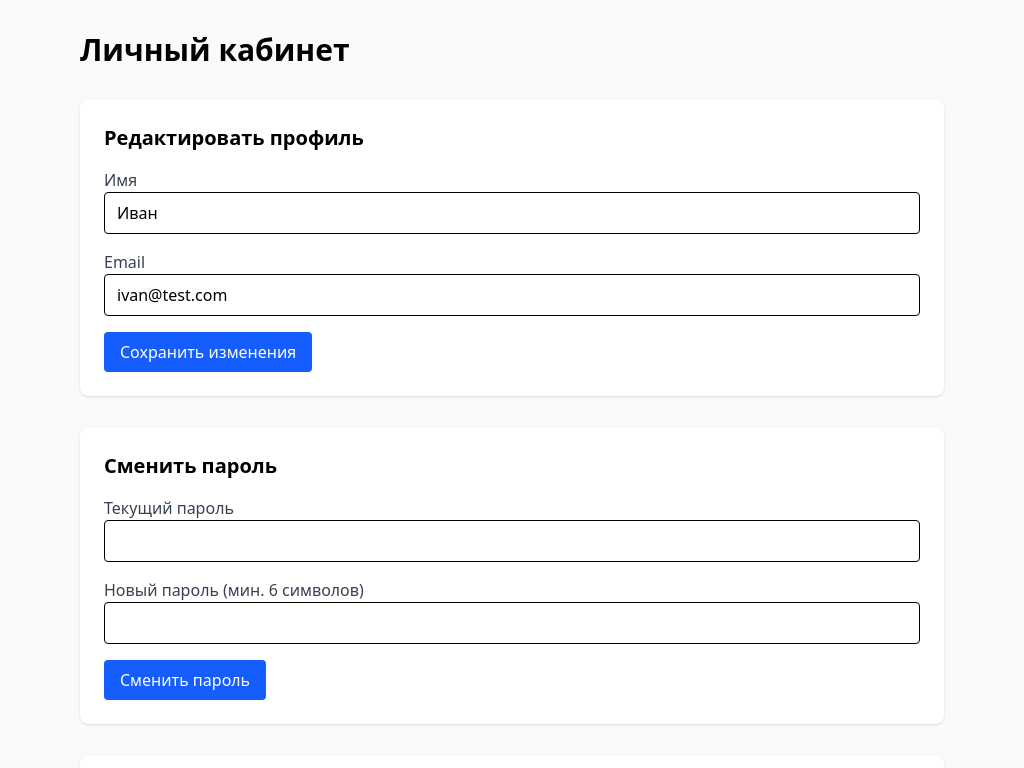
Test: ProfilePage › shows error on profile update failure
Click the button "Сохранить изменения" at x=208, y=352, box left=104, top=332, right=312, bottom=372
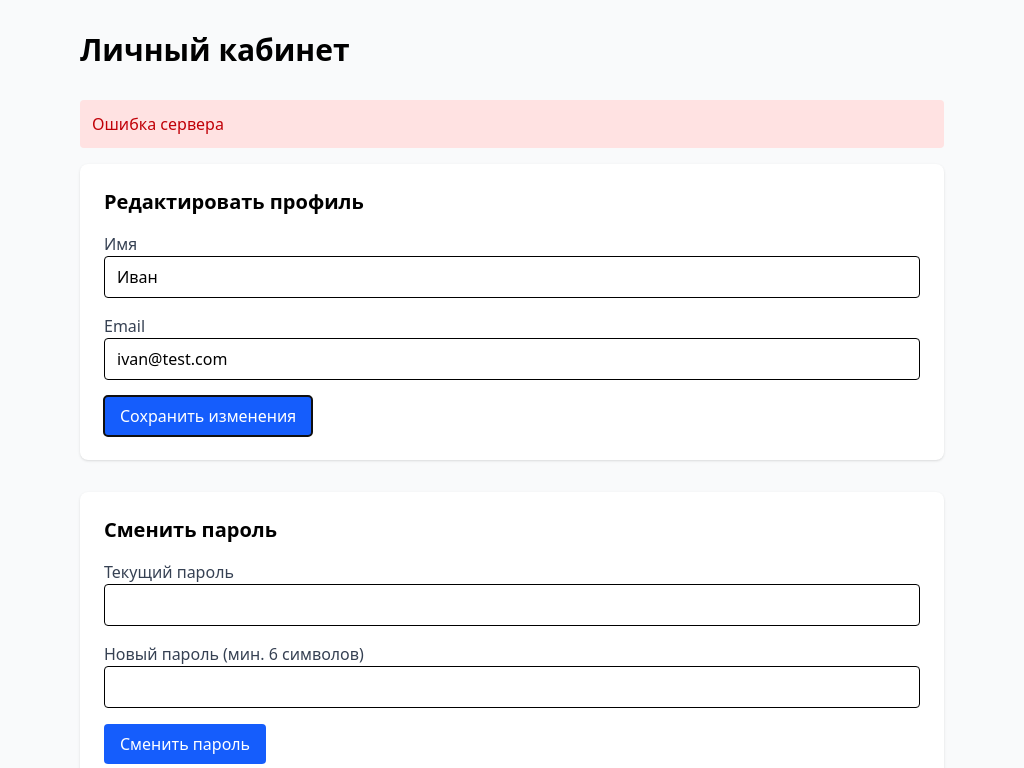
Expected: the text "Ошибка сервера" is shown, left=80, top=100, right=944, bottom=148
